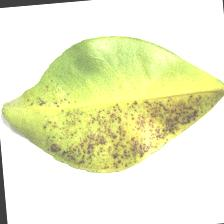canker: (73, 112, 169, 160)
